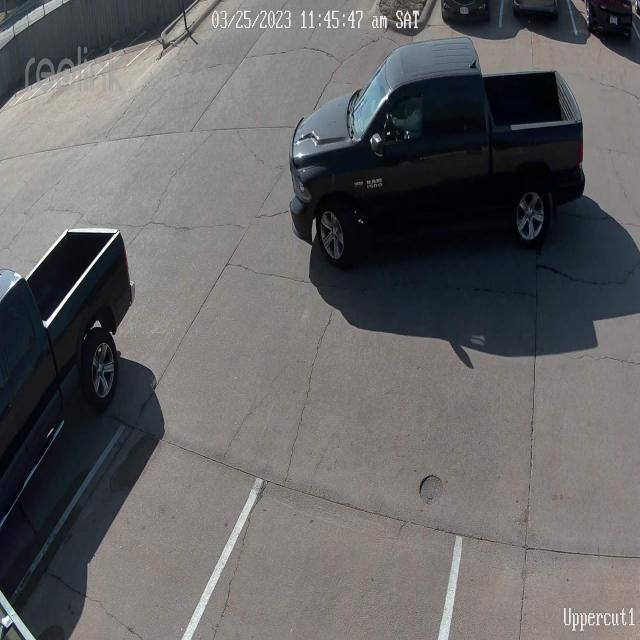Car: (288, 39, 587, 267)
Empty-slot: (185, 433, 476, 640), (12, 411, 274, 638), (445, 424, 640, 640)
Slot-Occupied: (0, 228, 135, 470), (588, 0, 638, 58), (443, 0, 500, 33), (516, 1, 561, 26)
